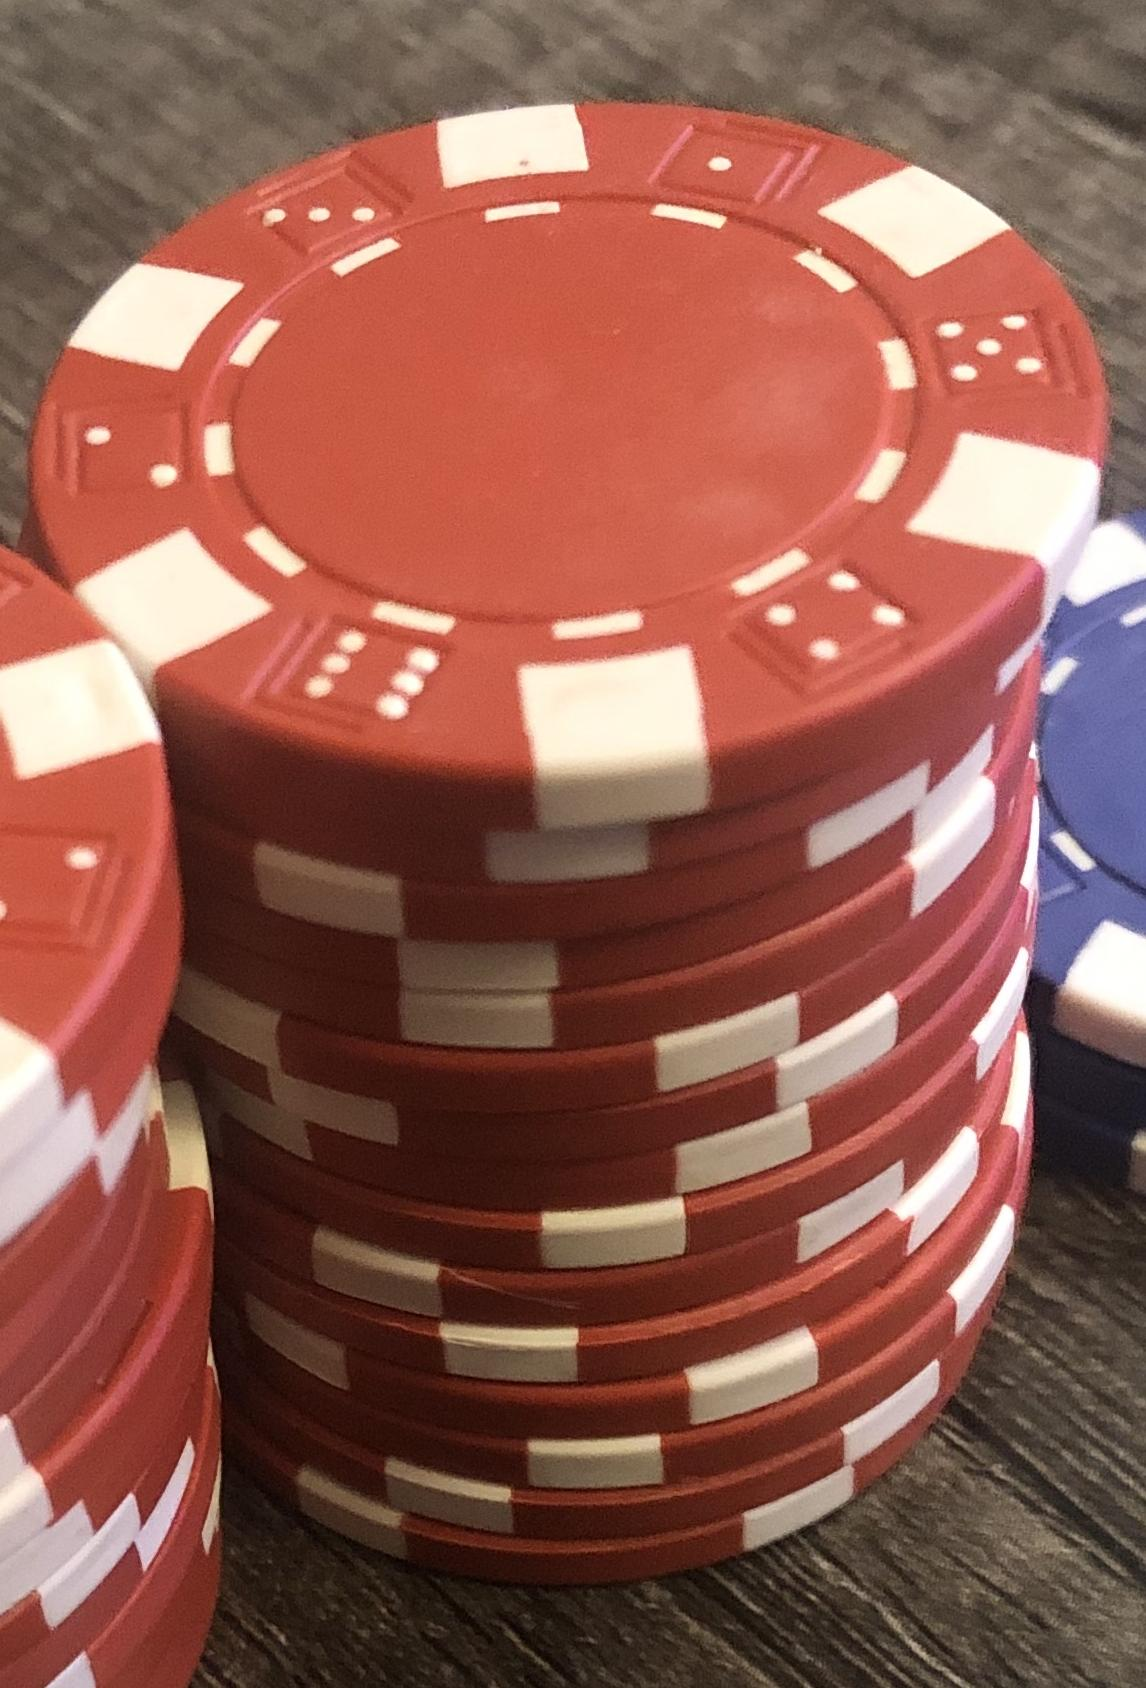Chip: (1, 1, 1146, 1688)
